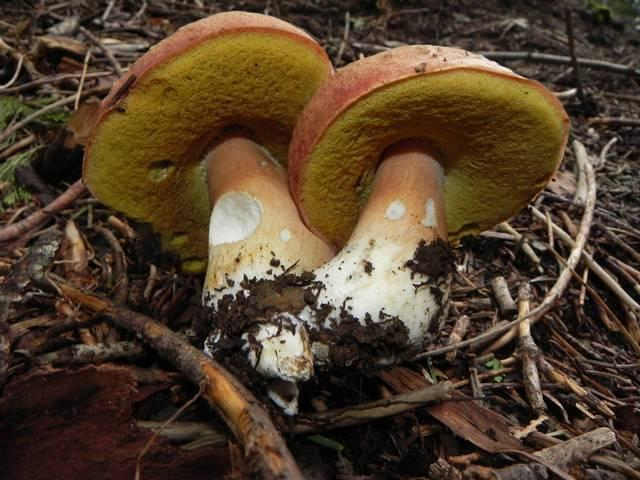edible_mushroom: (285, 42, 571, 372), (82, 8, 334, 335)
